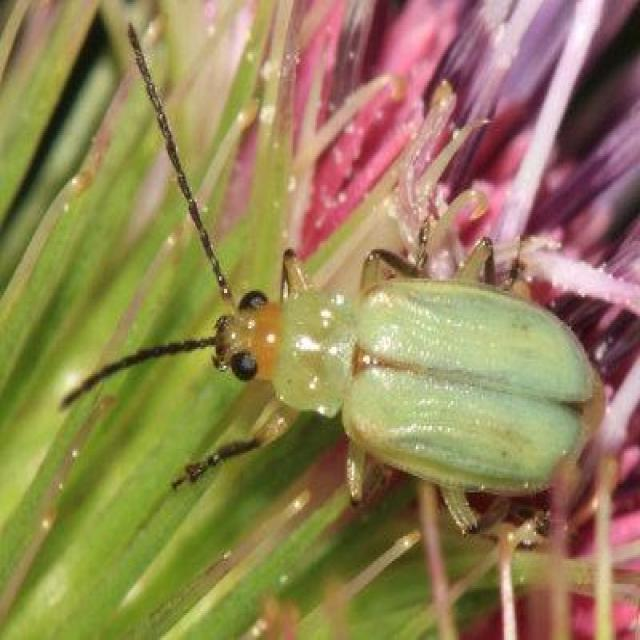gusano_gris: (84, 24, 602, 578)
